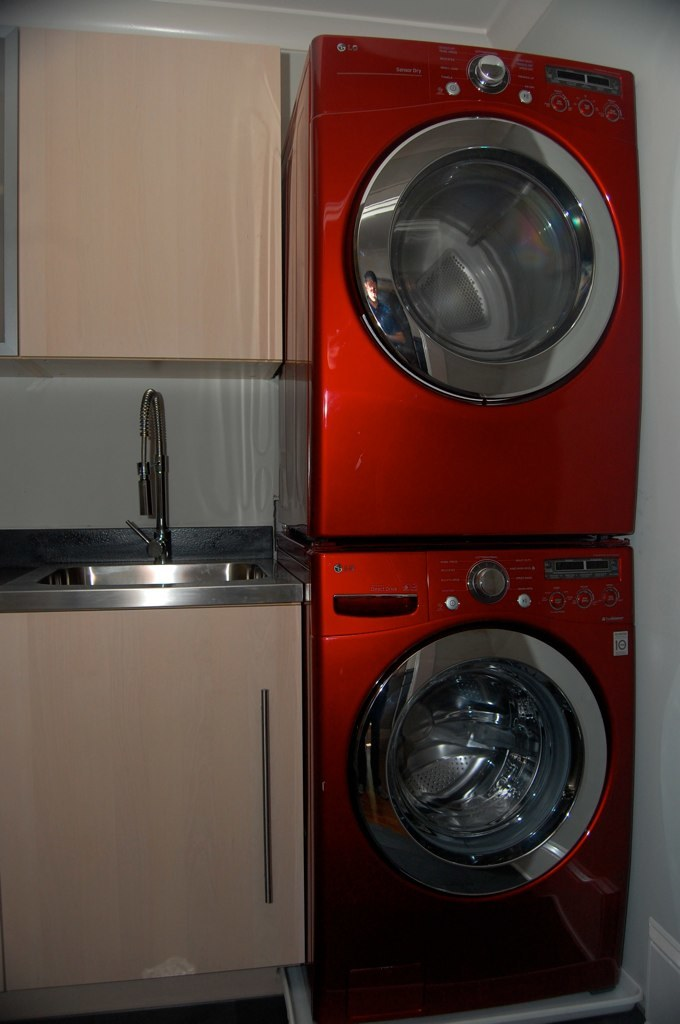person: (362, 268, 406, 345)
